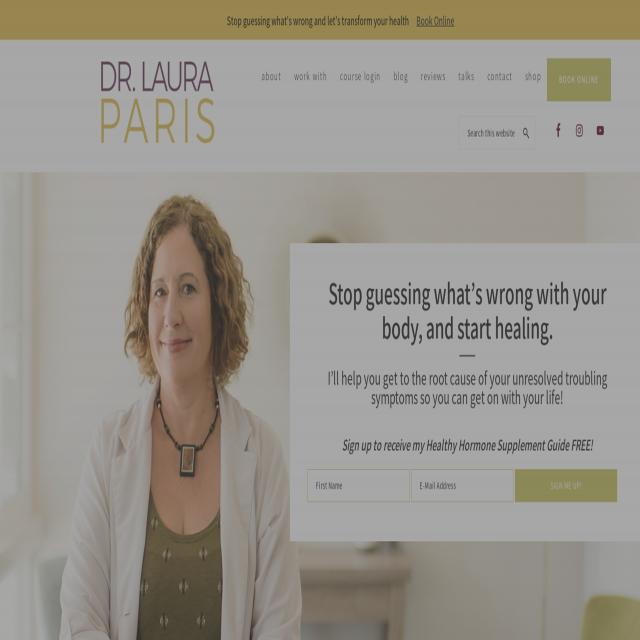button: (101, 62, 215, 144), (515, 469, 618, 503), (547, 57, 611, 102), (334, 58, 386, 93), (289, 58, 333, 93), (415, 58, 451, 93), (482, 58, 518, 93), (256, 58, 287, 93), (452, 58, 480, 93), (520, 58, 546, 93), (388, 58, 414, 93), (554, 123, 562, 138), (576, 123, 584, 138), (596, 123, 604, 138)
field: (411, 469, 514, 501), (308, 469, 410, 501), (458, 116, 536, 149)
